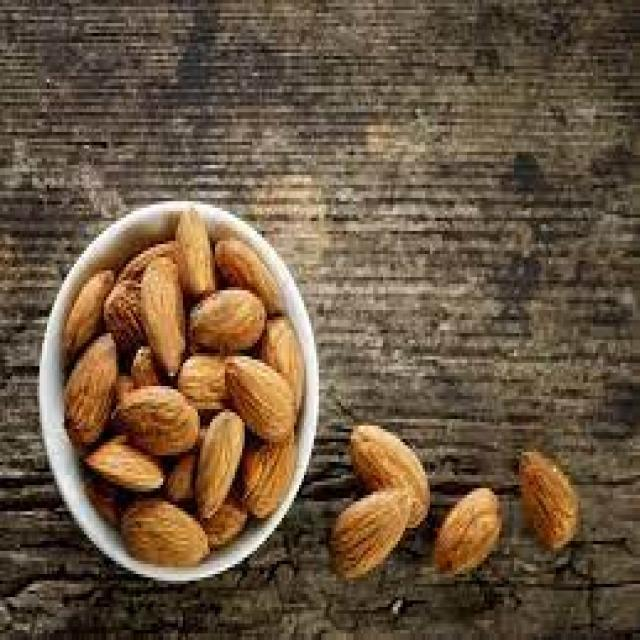almond: (350, 423, 430, 529), (331, 483, 416, 578), (62, 333, 121, 447), (434, 486, 505, 580), (121, 497, 211, 568), (220, 358, 296, 441), (518, 449, 580, 550), (110, 383, 200, 452), (140, 257, 190, 377), (193, 410, 244, 523), (185, 288, 268, 356), (242, 430, 299, 527), (215, 237, 286, 314), (82, 441, 166, 494), (175, 204, 216, 295)
